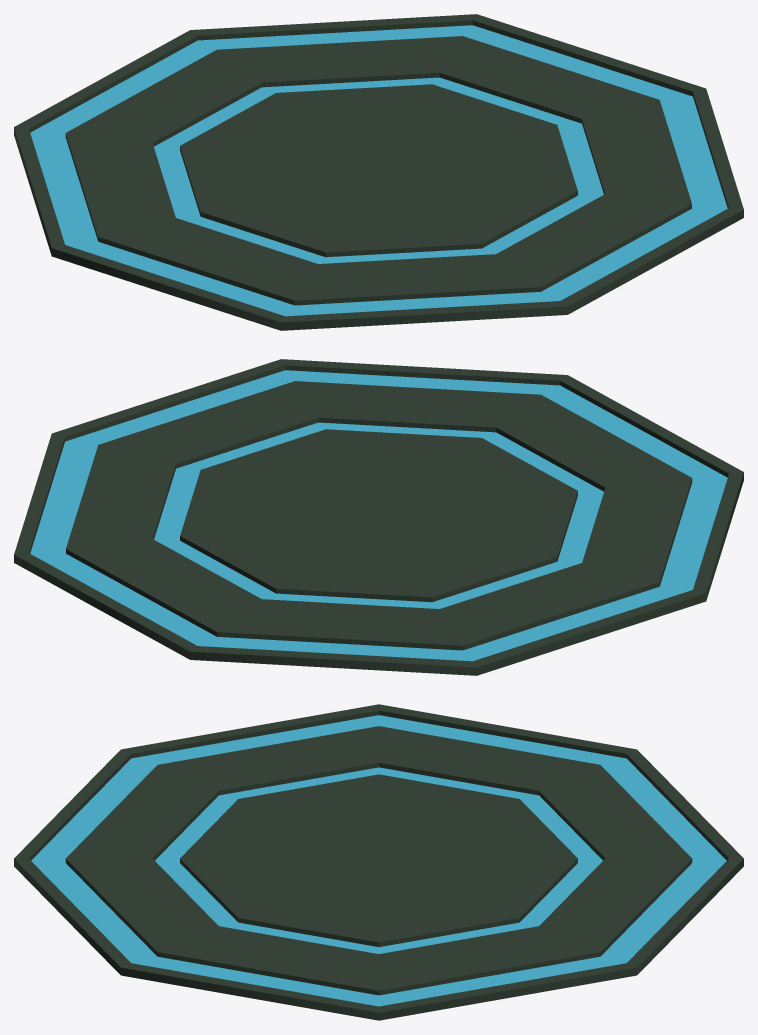
The model's file is Itr_Carpet1_04.FBX.
3 views of the same model, one above another, from view 1: azimuth 30°, elevation 25°; view 2: azimuth 150°, elevation 25°; view 3: azimuth 270°, elevation 25° (orthographic). The views are drawn at different scales.
Visible parts, largest first — view 1: Itr_Carpet1_04; view 2: Itr_Carpet1_04; view 3: Itr_Carpet1_04.
Boxes of the visible parts, bbox=[...] form: Itr_Carpet1_04: bbox=[14, 14, 743, 330]; Itr_Carpet1_04: bbox=[14, 359, 743, 675]; Itr_Carpet1_04: bbox=[14, 704, 743, 1020].
Bounding box in the file's own units: 121 × 1.46 × 121.
